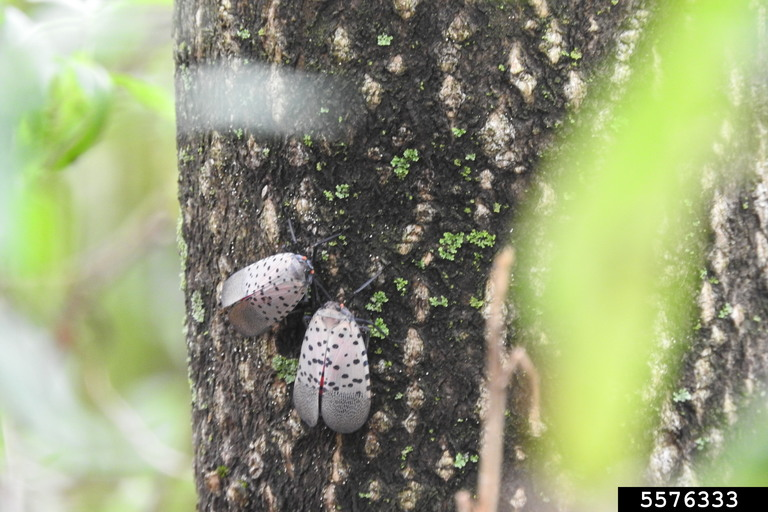adult: (292, 258, 394, 434), (218, 214, 339, 342)
